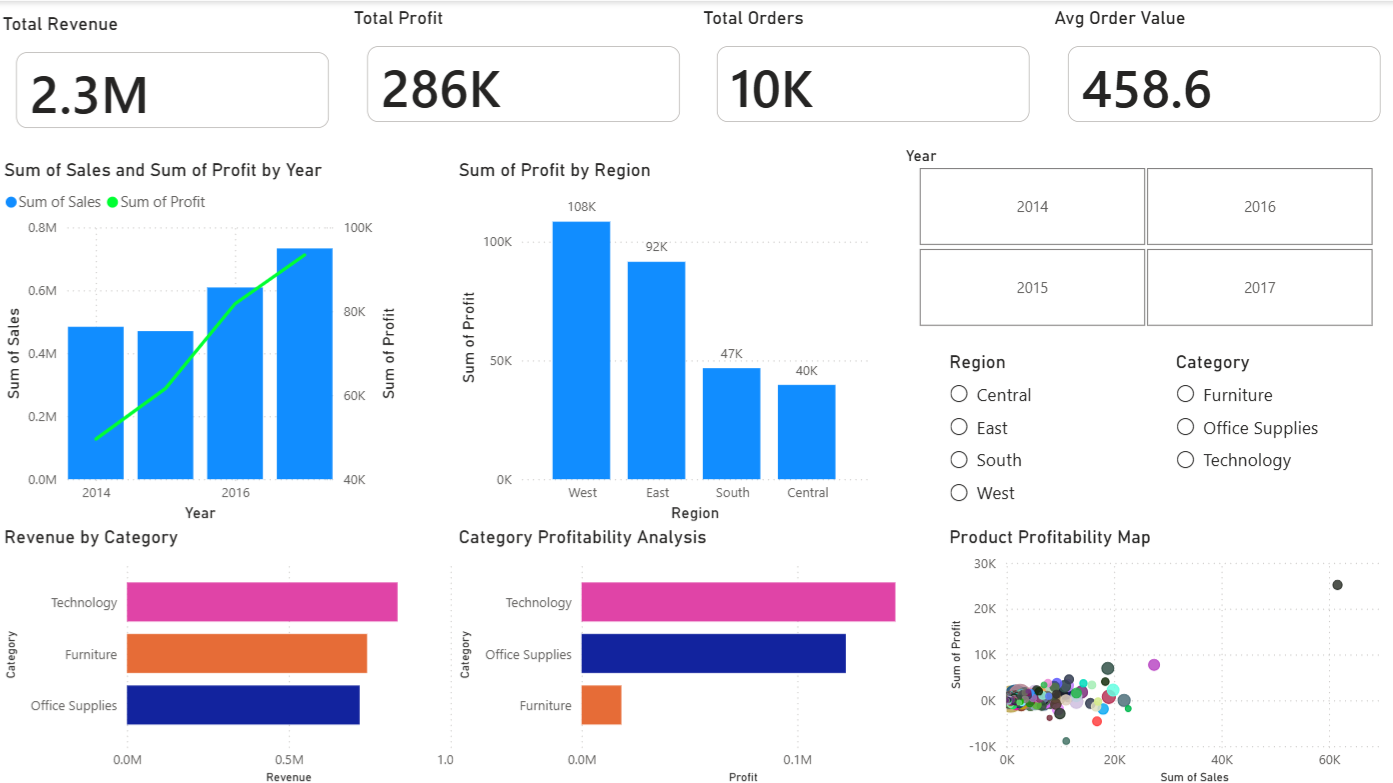

This screenshot's page, from the dashboard's own definition file:
{"tool":"powerbi","page":{"name":"Dashboard ","canvas":[1280,720],"ordinal":0},"visuals":[{"type":"cardVisual","title":"Total Revenue ","fields":{"Data":["Sum(Sample - Superstore.Sales)"]},"box":[-1.1,5.1,320,128],"z":0},{"type":"clusteredBarChart","title":"Revenue by Category","fields":{"Category":["Sample - Superstore.Category"],"Y":["Sum(Sample - Superstore.Sales)"]},"box":[0,480,432,240],"z":1000},{"type":"cardVisual","title":"Total Profit","fields":{"Data":["Sum(Sample - Superstore.Profit)"]},"box":[320,0,320,128],"z":2000},{"type":"cardVisual","title":"Total Orders","fields":{"Data":["CountNonNull(Sample - Superstore.Order ID)"]},"box":[640,0,320,128],"z":3000},{"type":"clusteredBarChart","title":"Category Profitability Analysis","fields":{"Category":["Sample - Superstore.Category"],"Y":["Sum(Sample - Superstore.Profit)"]},"box":[416,480,432,240],"z":4000},{"type":"cardVisual","title":"Avg Order Value","fields":{"Data":["Sample - Superstore.Average Order Value"]},"box":[960,0,320,128],"z":5000},{"type":"clusteredColumnChart","fields":{"Category":["Sample - Superstore.Region"],"Y":["Sum(Sample - Superstore.Profit)"]},"box":[416,144,384,336],"z":6000},{"type":"scatterChart","title":"Product Profitability Map","fields":{"X":["Sum(Sample - Superstore.Sales)"],"Y":["Sum(Sample - Superstore.Profit)"],"Size":["Sum(Sample - Superstore.Quantity)"],"Series":["Sample - Superstore.Product Name"]},"box":[864,480,416,240],"z":7000},{"type":"lineClusteredColumnComboChart","fields":{"Category":["Sample - Superstore.Order Date.Variation.Date Hierarchy.Year","Sample - Superstore.Order Date.Variation.Date Hierarchy.Quarter","Sample - Superstore.Order Date.Variation.Date Hierarchy.Month","Sample - Superstore.Order Date.Variation.Date Hierarchy.Day"],"Y":["Sum(Sample - Superstore.Sales)"],"Y2":["Sum(Sample - Superstore.Profit)"]},"box":[0,144,368,336],"z":8000},{"type":"slicer","fields":{"Values":["Sample - Superstore.Order Date.Variation.Date Hierarchy.Year"]},"box":[816,128,464,176],"z":9000},{"type":"listSlicer","fields":{"Values":["Sample - Superstore.Region"]},"box":[864,320,160,160],"z":10000},{"type":"listSlicer","fields":{"Values":["Sample - Superstore.Category"]},"box":[1072,320,208,160],"z":11000}]}

Visuals, with their boxes in screenshot pixels (x1, y1, x2, y2), scaled from the page's 1280x720 canvas onto the 1393x783 screenshot:
"Total Revenue " cardVisual: 0:6:347:145
"Revenue by Category" clusteredBarChart: 0:522:470:782
"Total Profit" cardVisual: 348:0:696:139
"Total Orders" cardVisual: 696:0:1045:139
"Category Profitability Analysis" clusteredBarChart: 453:522:923:782
"Avg Order Value" cardVisual: 1045:0:1392:139
clusteredColumnChart - Sample - Superstore.Region x Sum(Sample - Superstore.Profit): 453:157:871:522
"Product Profitability Map" scatterChart: 940:522:1392:782
lineClusteredColumnComboChart - Sample - Superstore.Order Date.Variation.Date Hierarchy.Year x Sample - Superstore.Order Date.Variation.Date Hierarchy.Quarter: 0:157:400:522
slicer - Sample - Superstore.Order Date.Variation.Date Hierarchy.Year: 888:139:1392:331
listSlicer - Sample - Superstore.Region: 940:348:1114:522
listSlicer - Sample - Superstore.Category: 1167:348:1392:522
